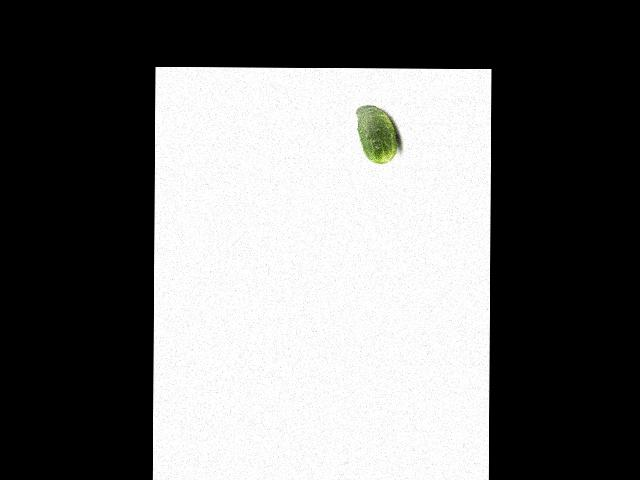cucumber: (356, 104, 398, 164)
